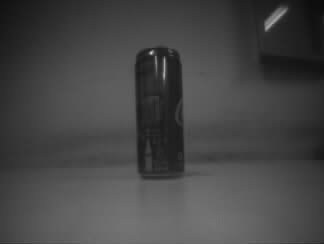Tin can: (134, 46, 185, 180)
